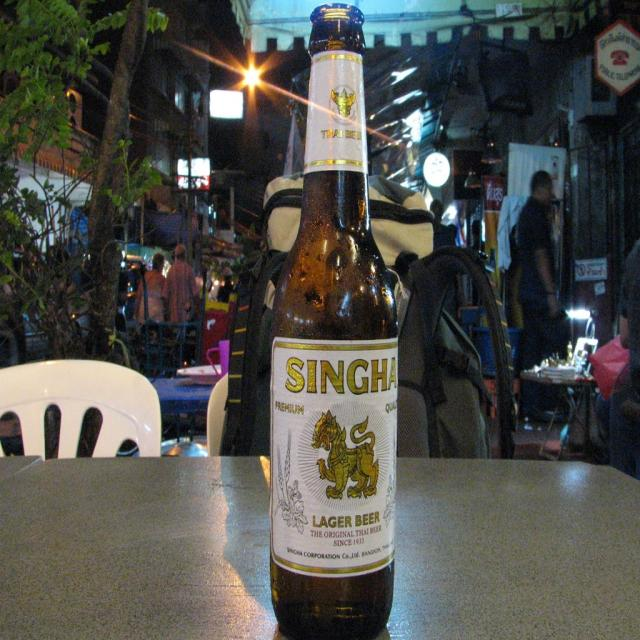singha: (272, 341, 398, 577)
